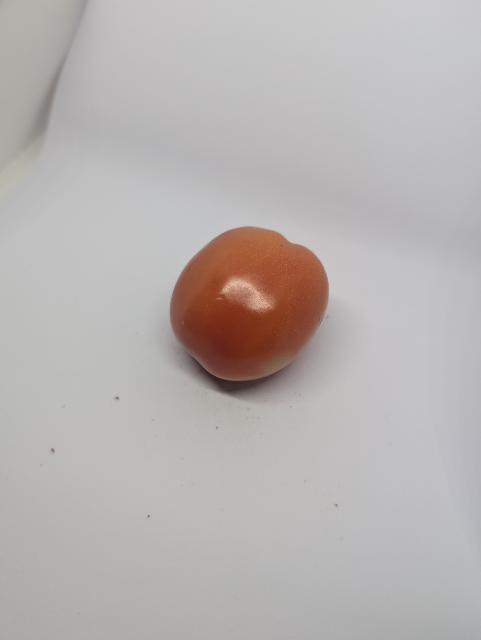turning: (169, 225, 333, 386)
